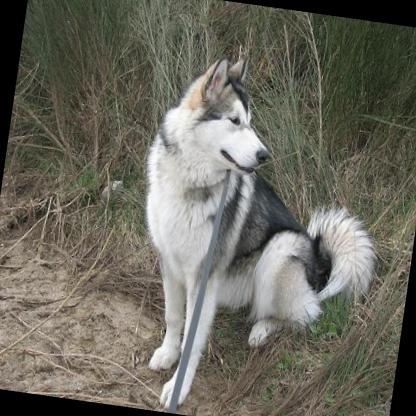malamute: (109, 42, 401, 416)
